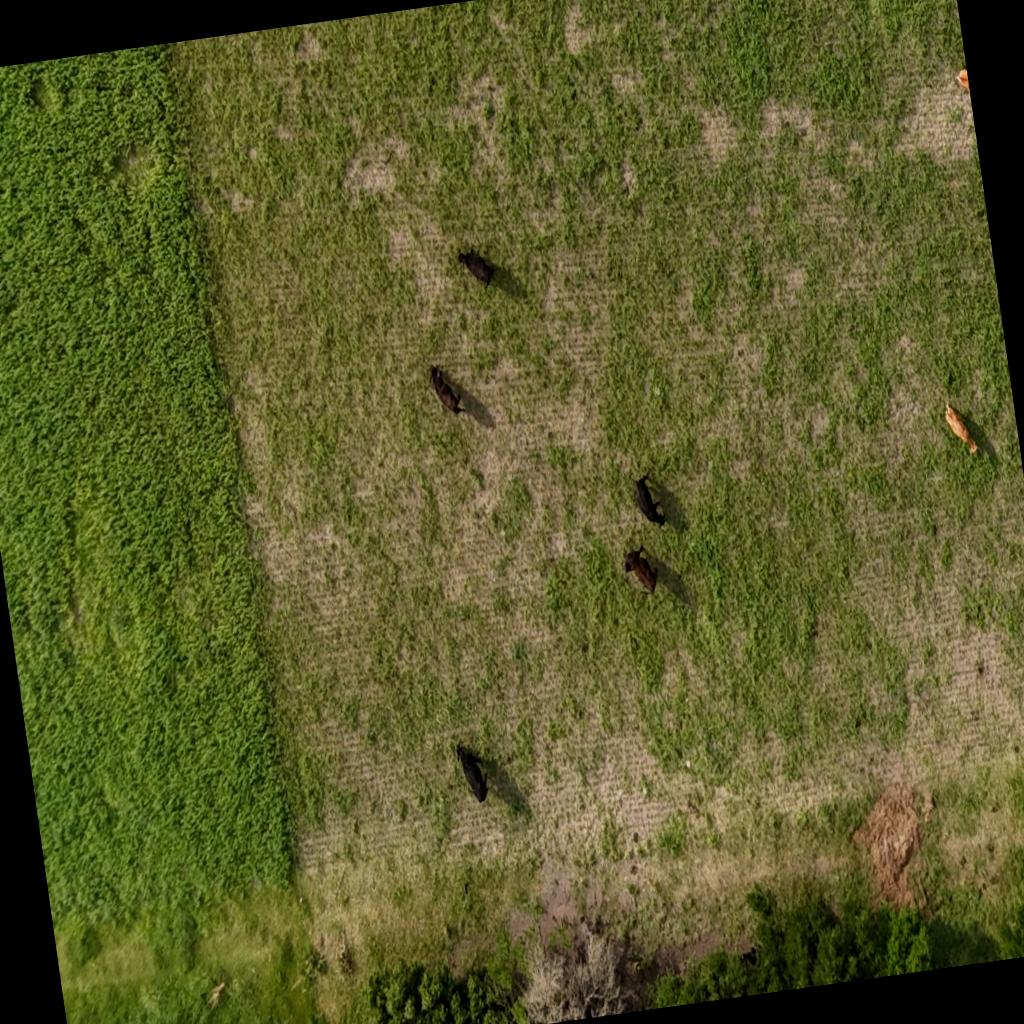cow: (450, 734, 502, 812), (424, 356, 473, 426), (456, 242, 505, 301), (941, 399, 980, 464), (622, 546, 662, 600), (633, 474, 668, 530)
